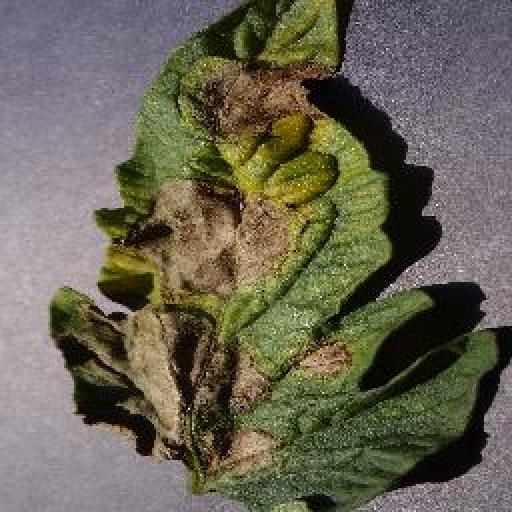Late Blight: (48, 0, 500, 512)
